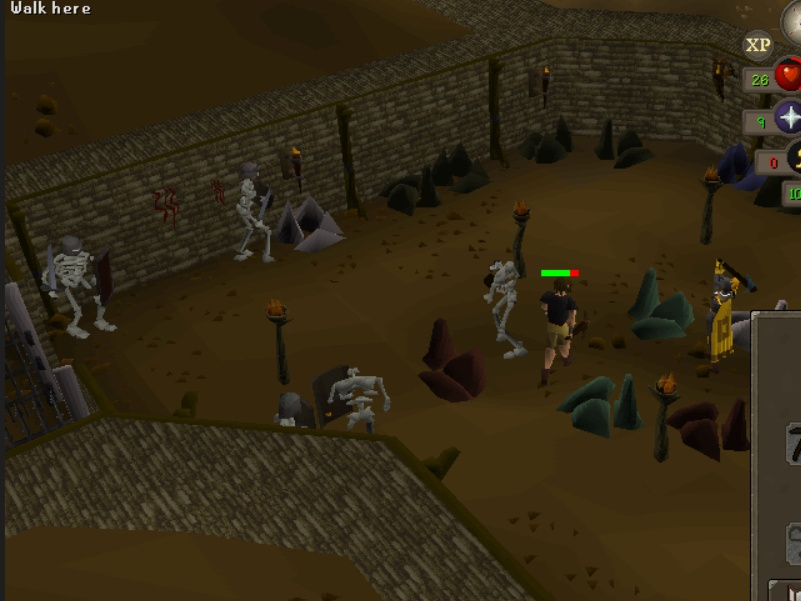adamant: (549, 369, 647, 443), (619, 259, 701, 341)
coal: (591, 116, 659, 170), (517, 114, 585, 168), (428, 141, 496, 195), (372, 166, 440, 220)
iron: (414, 315, 492, 406), (670, 390, 750, 459)
mithril: (714, 143, 766, 194)
tin: (274, 192, 356, 255)
